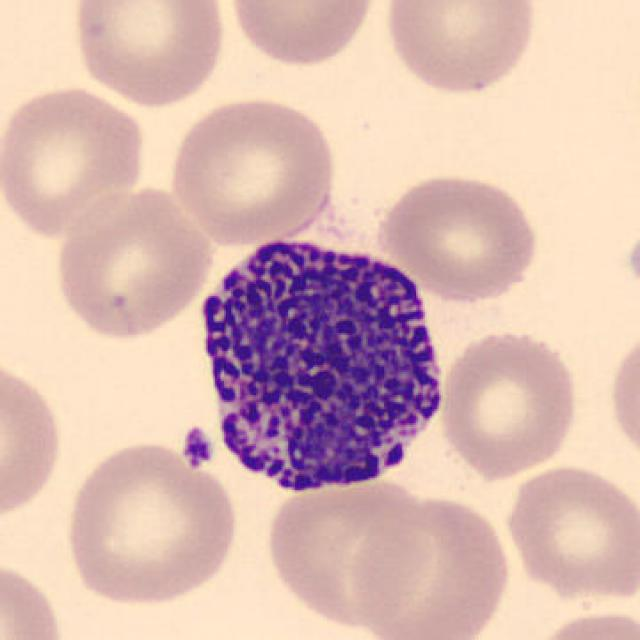Basophil: (187, 218, 462, 510)
Platelets: (180, 423, 215, 471)
RBC: (58, 436, 244, 610), (261, 467, 439, 633), (166, 92, 342, 247), (50, 182, 217, 342), (347, 488, 516, 640), (372, 168, 544, 305), (0, 81, 149, 238), (436, 326, 582, 481), (502, 462, 638, 603), (69, 0, 229, 109), (379, 0, 542, 99), (0, 353, 68, 527), (224, 0, 380, 69), (0, 555, 69, 639), (604, 324, 640, 469), (526, 606, 640, 640), (622, 217, 640, 314)
